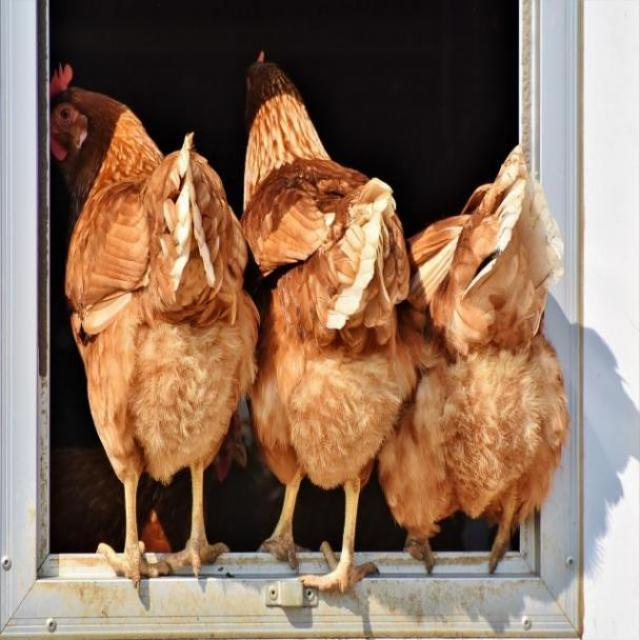Chicken: (48, 62, 258, 589), (240, 51, 416, 594), (375, 146, 569, 574)
